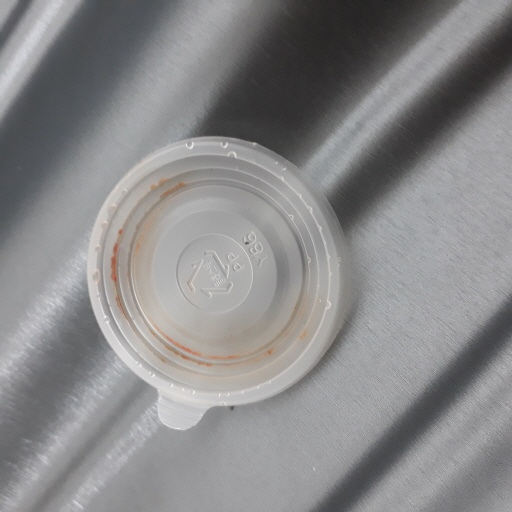Plastic_5: (85, 135, 356, 435)
